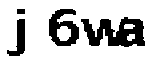6: (45, 6, 82, 48)
a: (120, 17, 152, 50)
j: (3, 6, 31, 60)
w: (82, 17, 123, 51)
